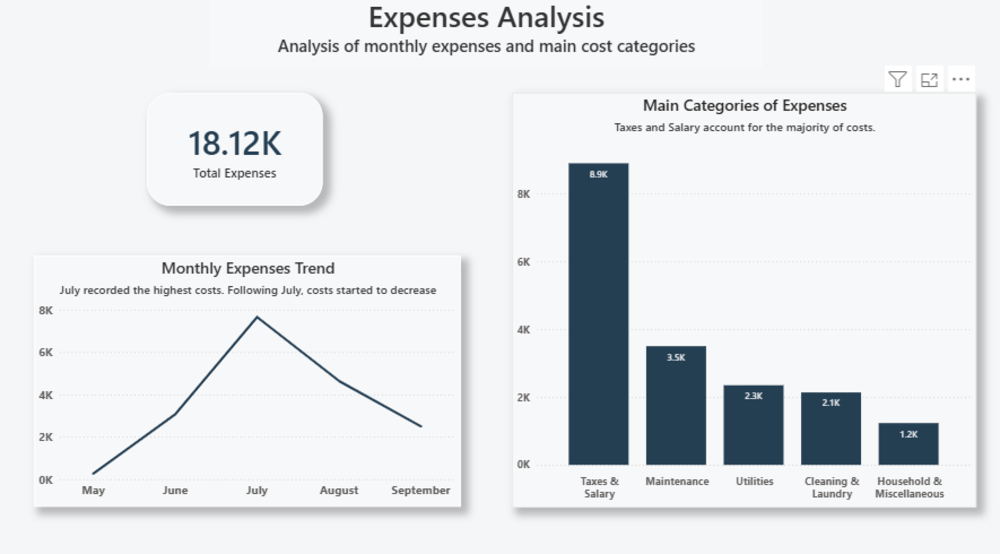

The page's visual inventory and layout, read from the dashboard file:
{"tool":"powerbi","page":{"name":"Expenses Overview","canvas":[1280,720],"ordinal":3},"visuals":[{"type":"card","fields":{"Values":["Bookings.Total Expenses"]},"box":[192,128,224,144],"z":0},{"type":"lineChart","title":"Monthly Expenses Trend","fields":{"Category":["Expenses.Month Name"],"Y":["Sum(Expenses.Amount)"]},"box":[48,336,544,320],"z":1000},{"type":"columnChart","title":"Main Categories of Expenses","fields":{"Category":["Expenses.Main Category"],"Y":["Sum(Expenses.Amount)"]},"box":[656,128,592,528],"z":2000},{"type":"textbox","box":[272,0,704,96],"z":4000}]}

Visuals, with their boxes in screenshot pixels (x1, y1, x2, y2), scaled from the page's 1280x720 canvas onto the 1000x554 screenshot:
card - Bookings.Total Expenses: 150:98:325:209
"Monthly Expenses Trend" lineChart: 38:259:462:505
"Main Categories of Expenses" columnChart: 512:98:975:505
textbox: 212:0:762:74
